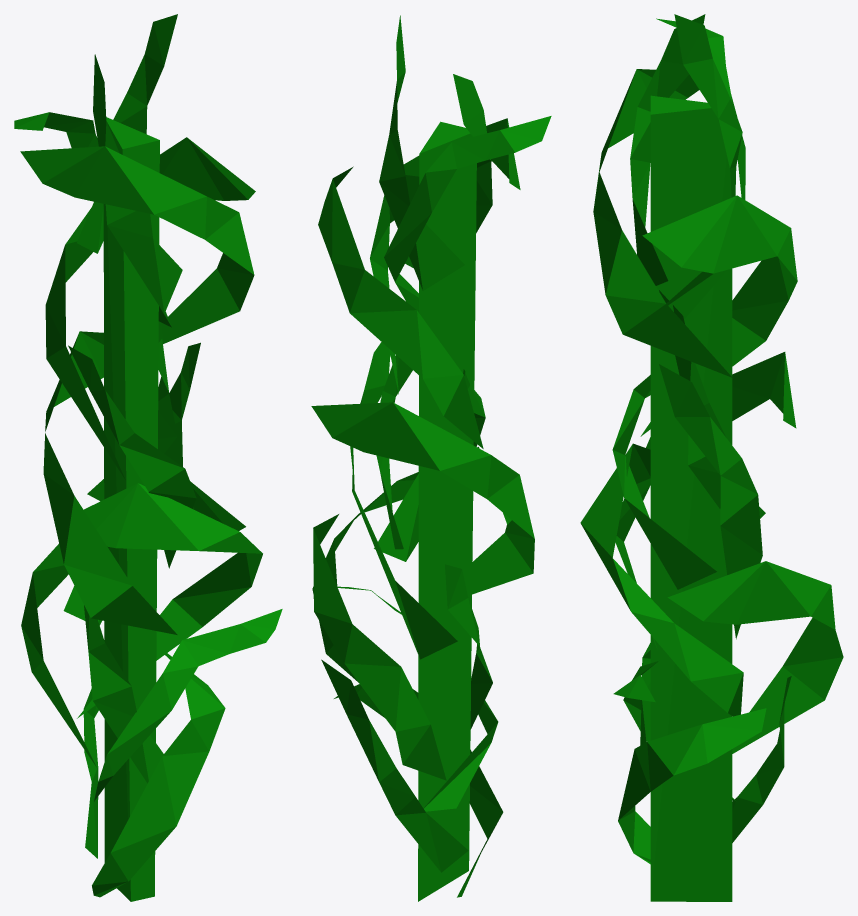
File: Corn_2.fbx
3 renders of one model, left to right at view 1: azimuth 30°, elevation 25°; view 2: azimuth 150°, elevation 25°; view 3: azimuth 270°, elevation 25°, orthographic. The views are drawn at different scales.
Parts seen in each view (by area): view 1: Corn_2; view 2: Corn_2; view 3: Corn_2.
Boxes of the visible parts, x1=… form: Corn_2: x1=14, y1=14, x2=282, y2=901; Corn_2: x1=311, y1=15, x2=551, y2=901; Corn_2: x1=580, y1=14, x2=843, y2=901.
Bounding box in the file's own units: 50.39 × 169 × 44.
